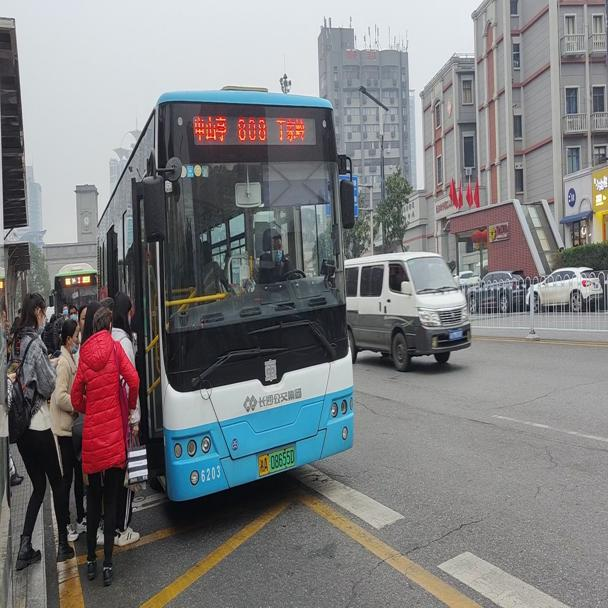bus: (94, 81, 357, 502), (53, 258, 96, 301)
screen: (233, 113, 270, 144), (74, 274, 81, 284)
